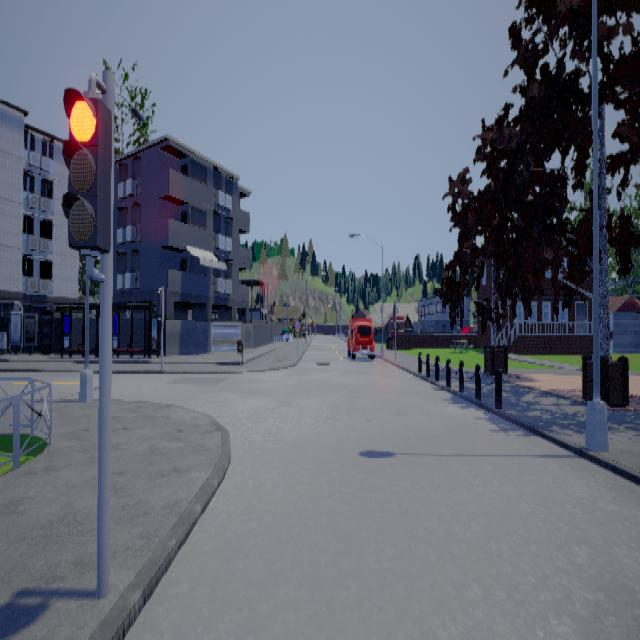red_light: (62, 71, 113, 281)
vehicle: (348, 316, 376, 358)
